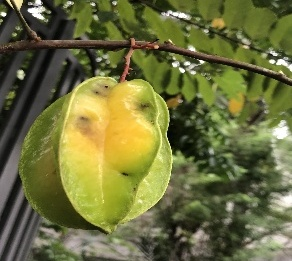Khe: (17, 75, 176, 236)
